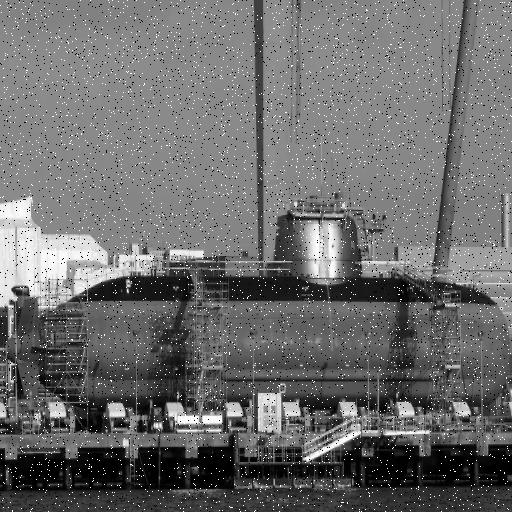submarine: (5, 217, 512, 407)
